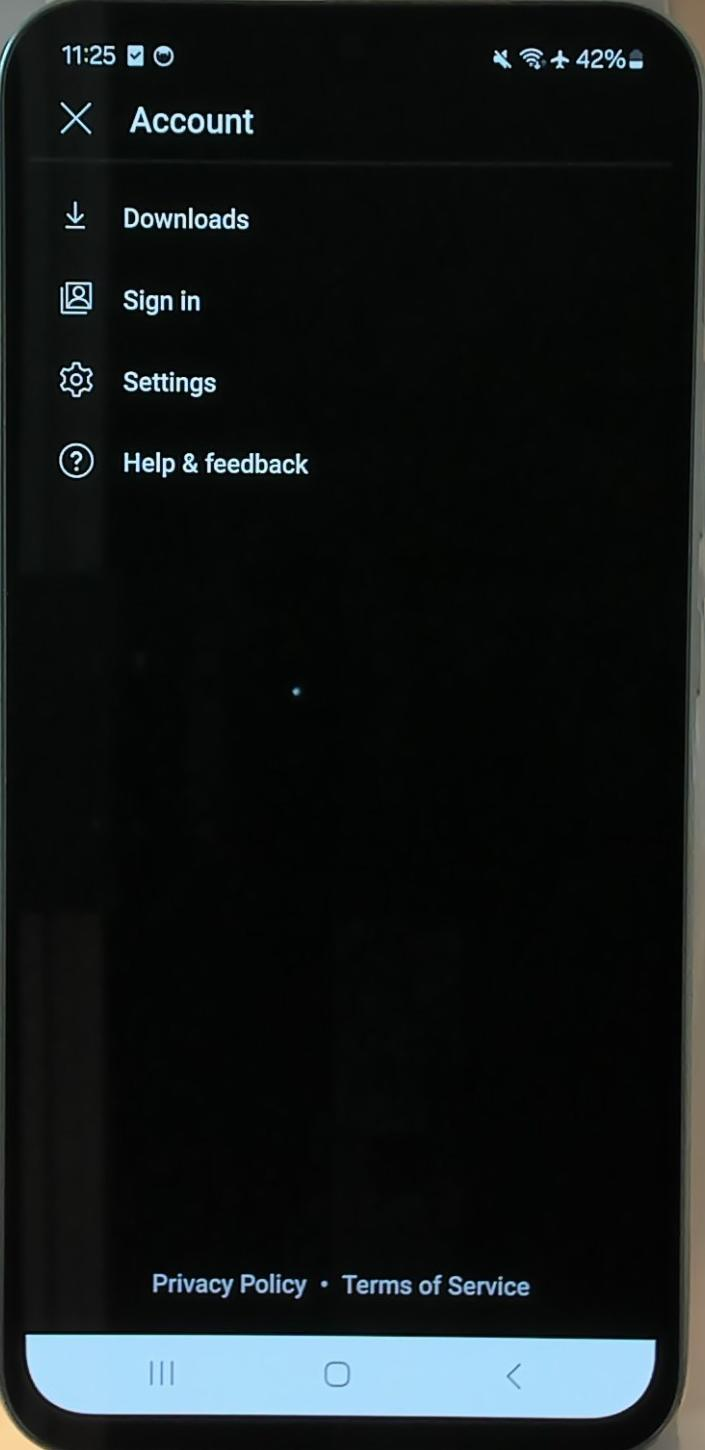CommunBotton: (46, 432, 324, 502), (44, 348, 228, 418), (40, 190, 264, 238), (46, 266, 214, 324), (40, 90, 102, 144), (132, 1348, 182, 1398), (494, 1350, 536, 1404), (314, 1350, 358, 1398)
